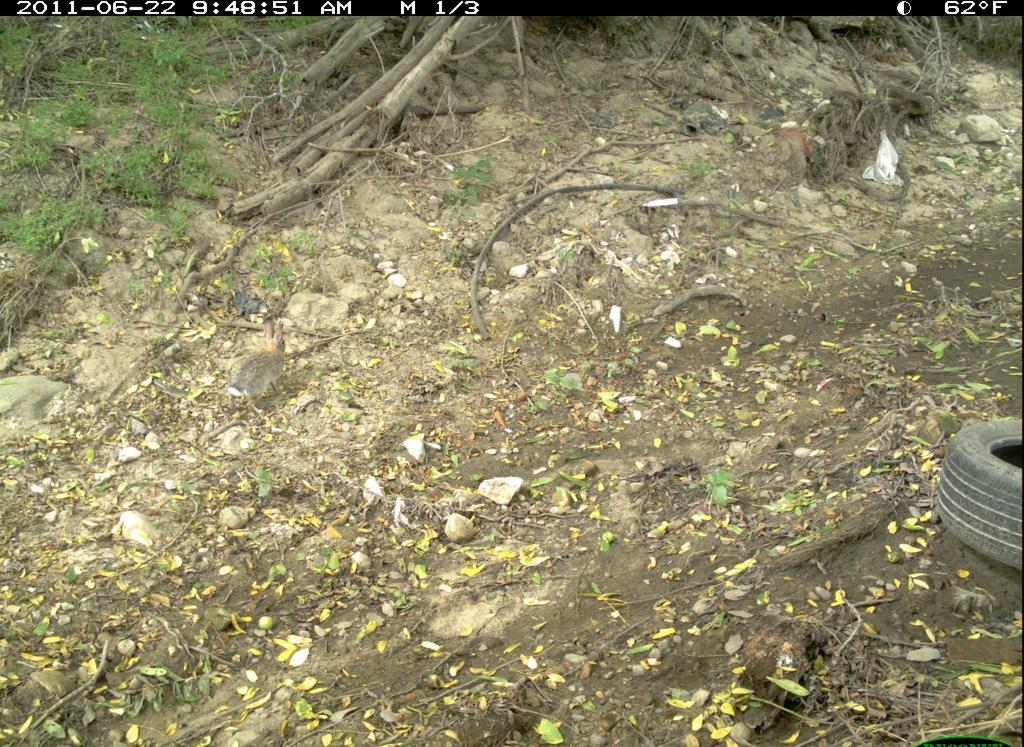rabbit: (219, 310, 299, 423)
